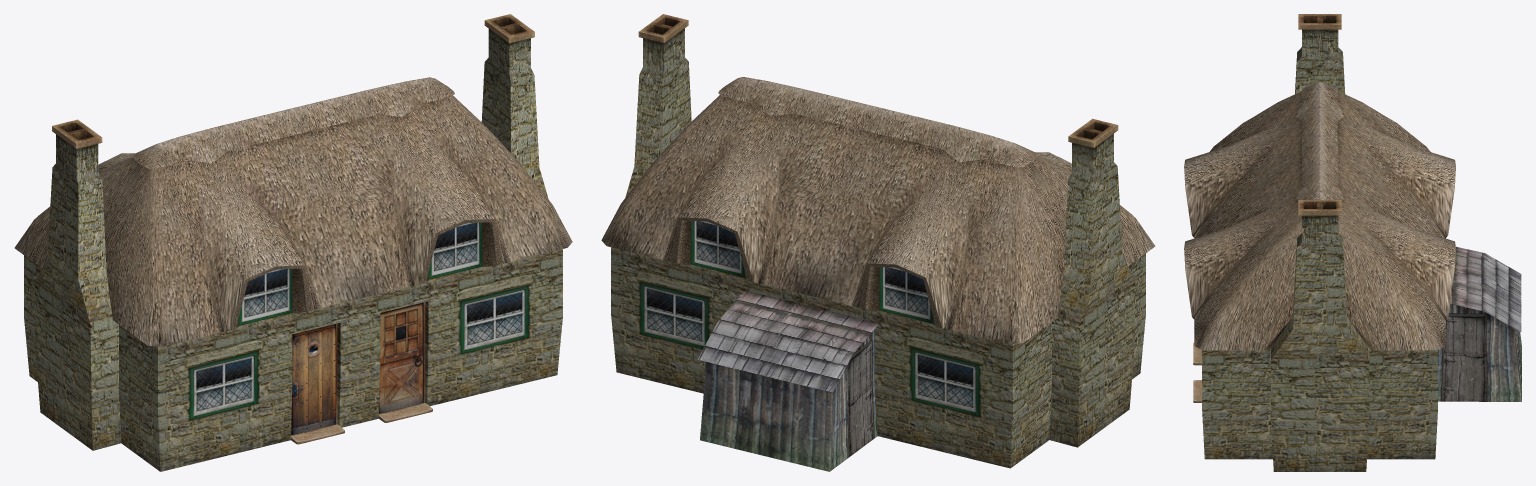
The model's file is cottage_tn.obj.
The picture shows the model from 3 angles, left to right: view 1: azimuth 30°, elevation 25°; view 2: azimuth 150°, elevation 25°; view 3: azimuth 270°, elevation 25°; orthographic projection. The views are drawn at different scales.
Parts seen in each view (by area): view 1: SketchUp_ID2; view 2: SketchUp_ID2; view 3: SketchUp_ID2.
Boxes of the visible parts, bbox=[...] form: SketchUp_ID2: bbox=[14, 14, 572, 471]; SketchUp_ID2: bbox=[601, 14, 1155, 471]; SketchUp_ID2: bbox=[1184, 14, 1521, 471].
Size of the model in its own units: 321 by 197 by 231.
Materials: 3 (1 with a texture image).
